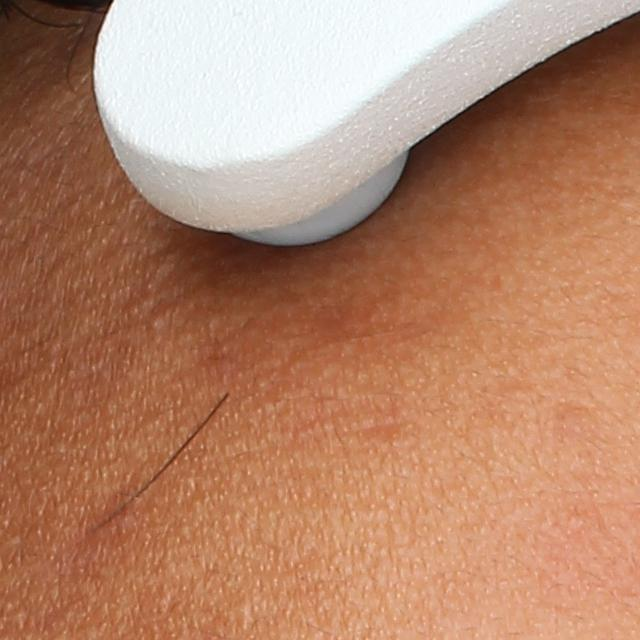comedo: (148, 314, 163, 328)
